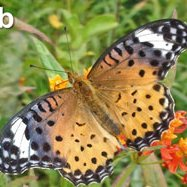Argyreus hyperbius: (1, 18, 187, 187)
butterfly: (1, 17, 186, 185)
